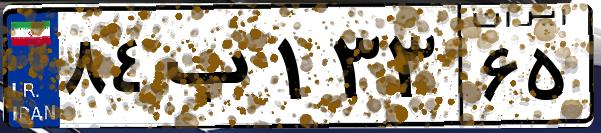1: (270, 28, 330, 110)
3: (385, 28, 445, 110), (330, 28, 385, 110)
4: (110, 28, 158, 98)
5: (525, 38, 570, 115)
6: (475, 38, 525, 113)
8: (57, 26, 110, 100)
ب: (158, 20, 270, 120)
